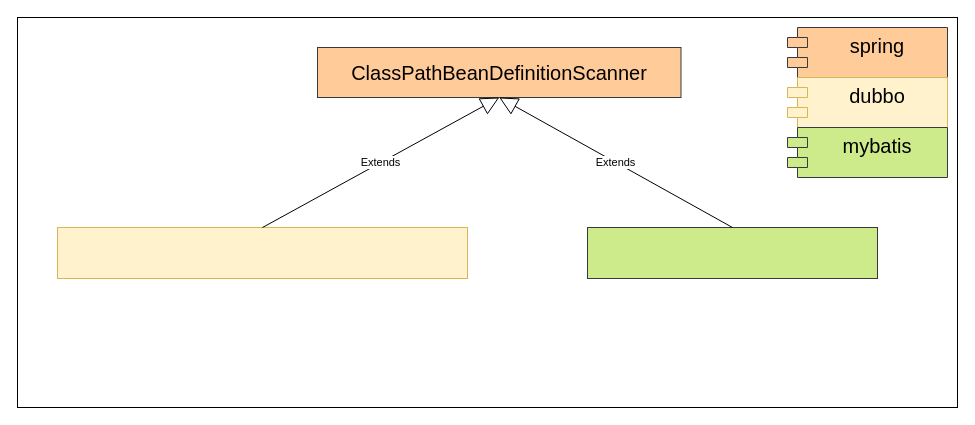
The diagram is 975 pixels wide and 425 high, and some of its shapes have lost their labels. Each missing label, with the centre of its shape:
ClassPathMapperScanner: (732,252)
DubboClassPathBeanDefinitionScanner: (262,252)
